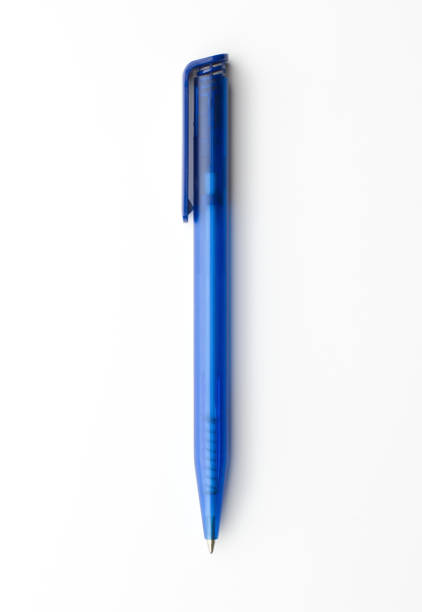pen: (150, 41, 247, 558)
